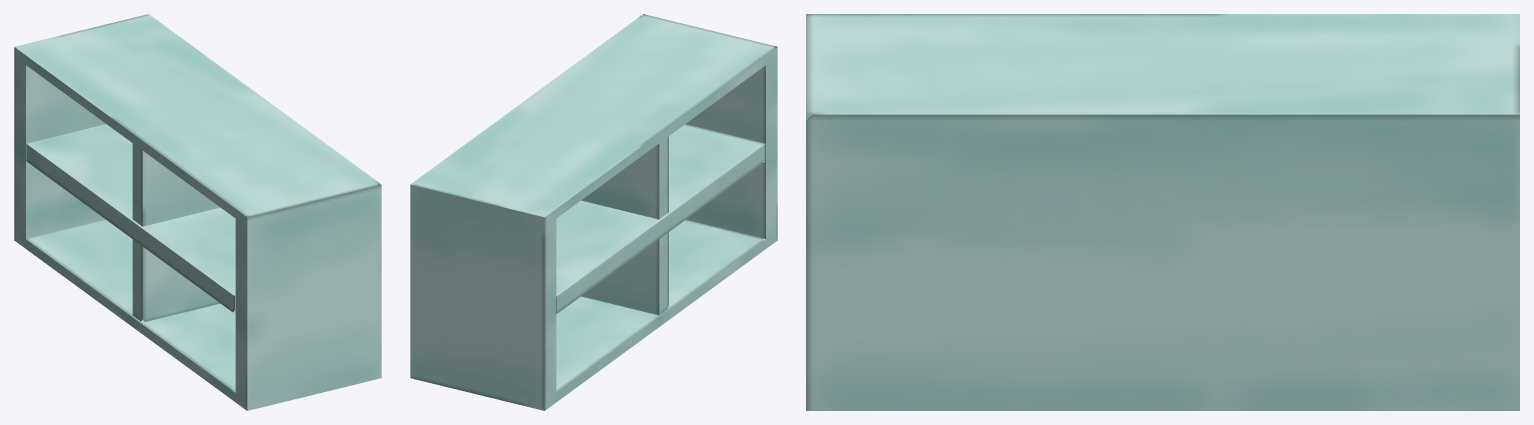
Rendered from shelf6.fbx.
3 renders of one model, left to right at view 1: azimuth 30°, elevation 25°; view 2: azimuth 150°, elevation 25°; view 3: azimuth 270°, elevation 25°, orthographic. The views are drawn at different scales.
Visible parts, largest first — view 1: cuboid, cuboid_1, cuboid_2; view 2: cuboid, cuboid_1, cuboid_2; view 3: cuboid.
Boxes of the visible parts, <box> form: cuboid: <box>14,14,381,410</box>; cuboid_1: <box>26,124,235,313</box>; cuboid_2: <box>132,143,220,321</box>; cuboid: <box>410,14,777,410</box>; cuboid_1: <box>556,124,765,313</box>; cuboid_2: <box>581,136,668,315</box>; cuboid: <box>806,14,1519,410</box>.
Size of the model in its own units: 100 by 138 by 300.
Materials: 1 (1 with a texture image).
